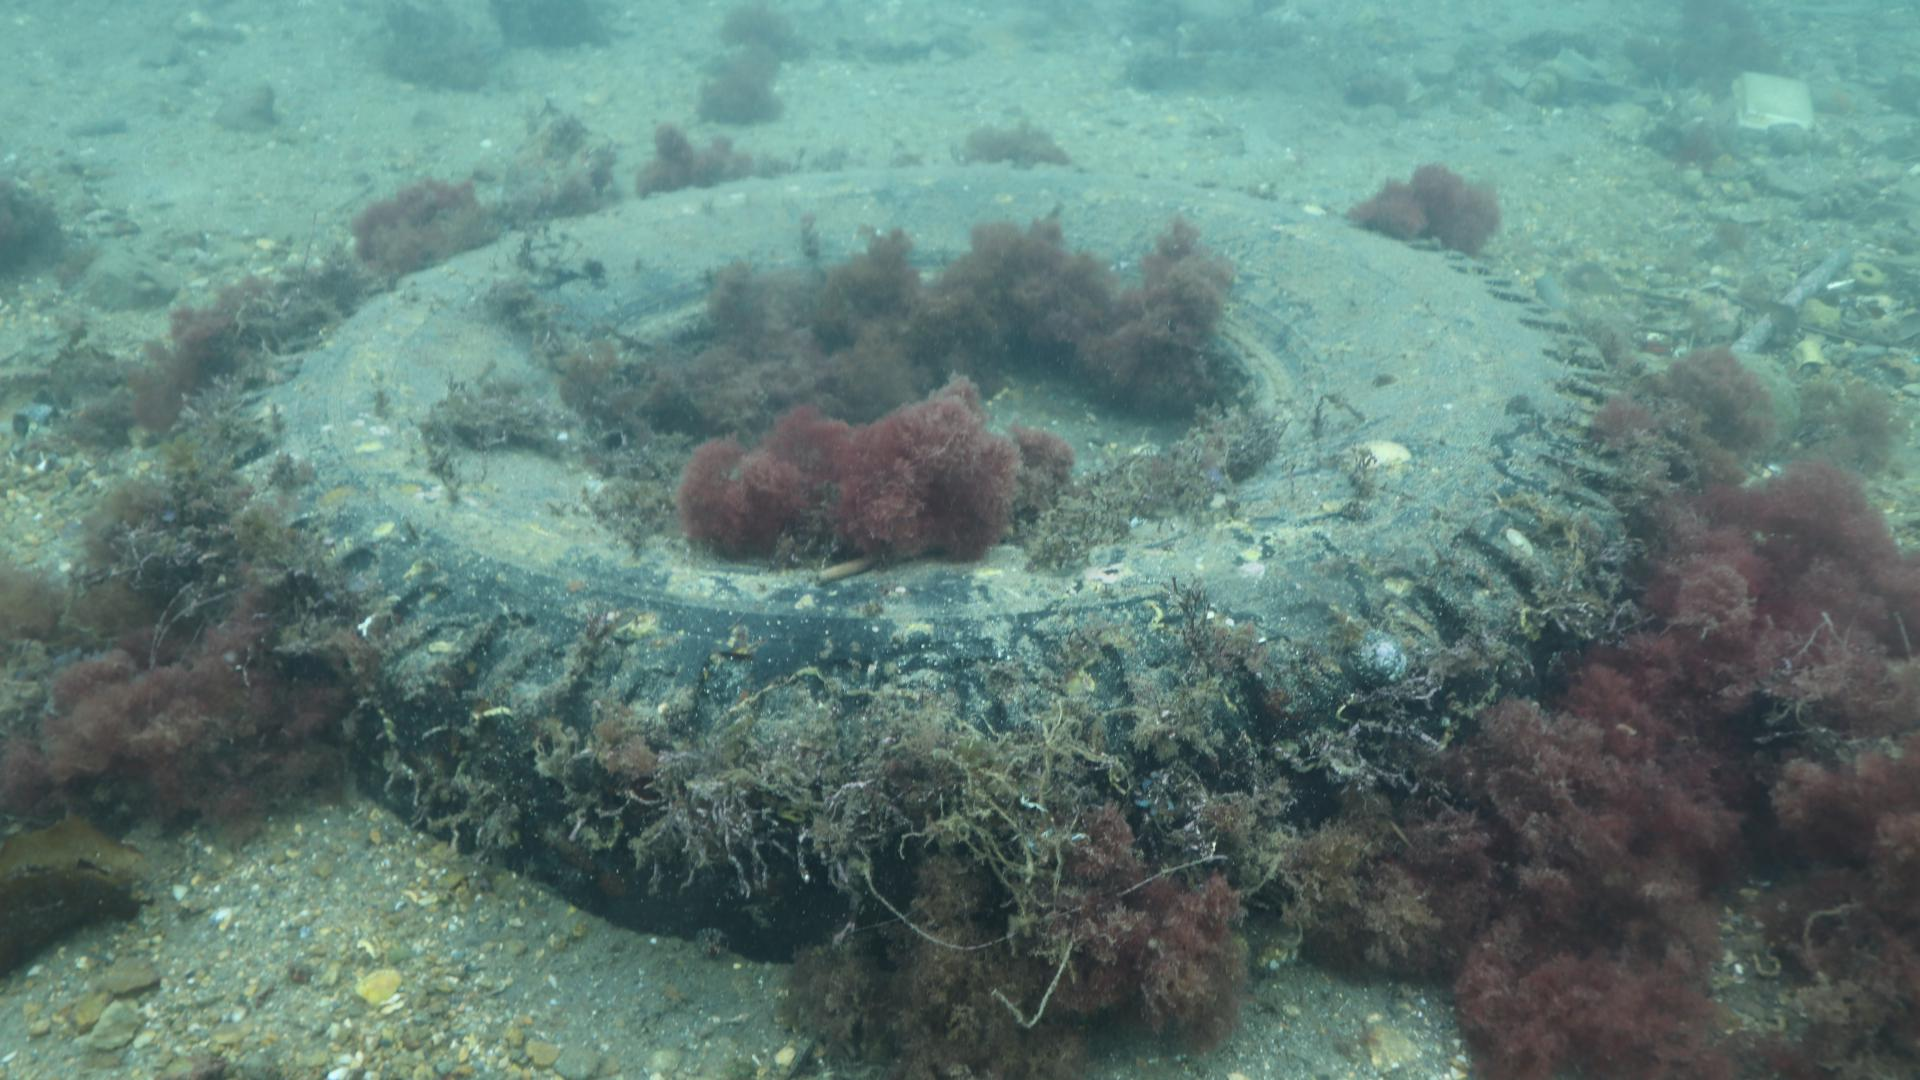tire: (220, 157, 1634, 963)
